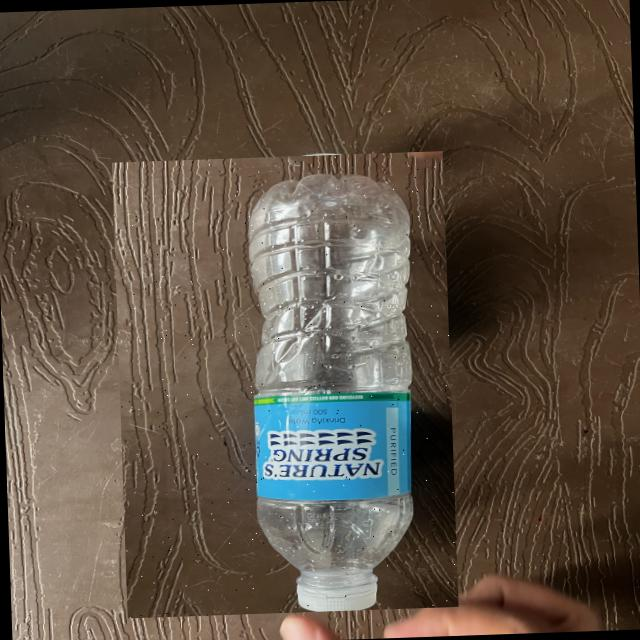REJECT: (110, 150, 457, 617)
